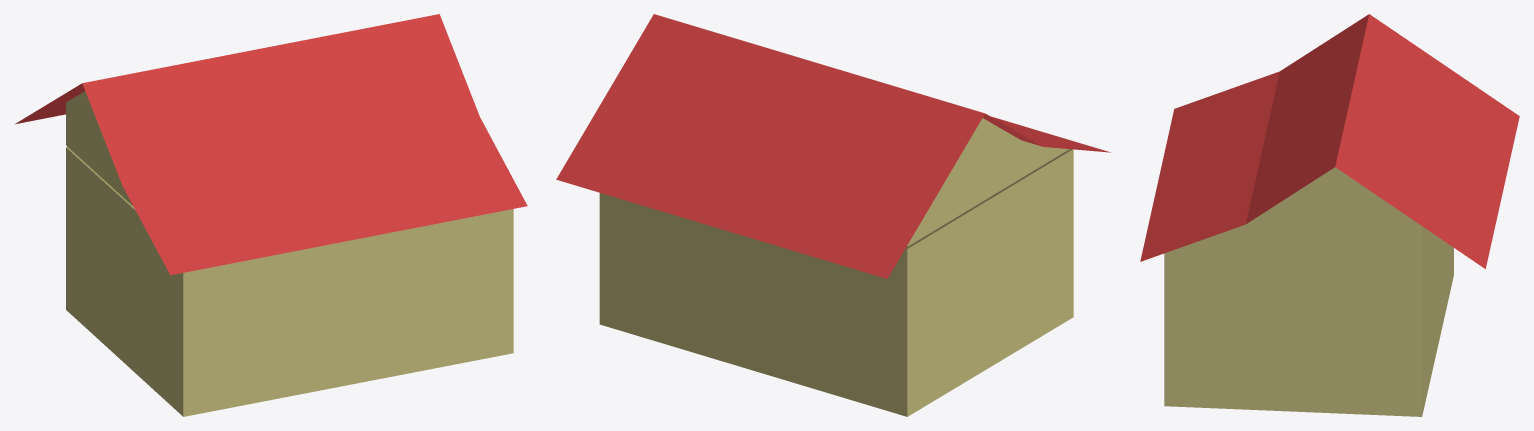
The picture shows the model from 3 angles, left to right: view 1: azimuth 30°, elevation 25°; view 2: azimuth 150°, elevation 25°; view 3: azimuth 270°, elevation 25°; orthographic projection. The views are drawn at different scales.
Size of the model in its own units: 18.51 by 17.79 by 12.8.
